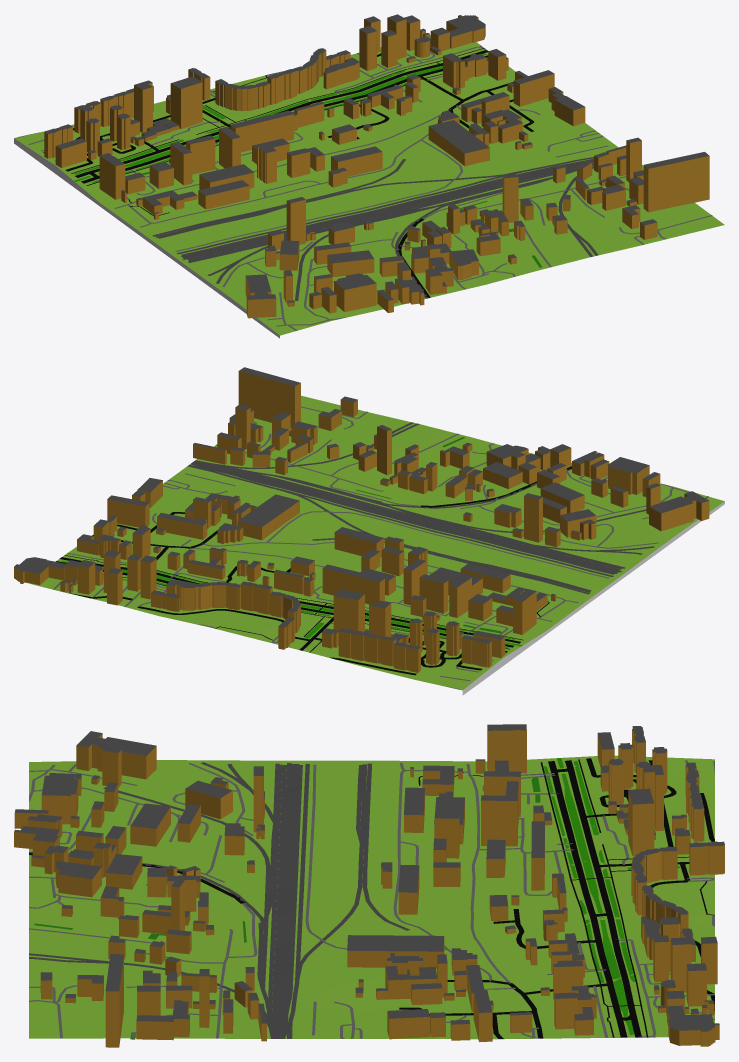
File: tile_00_03.glb
3 renders of one model, top to bottom at view 1: azimuth 30°, elevation 25°; view 2: azimuth 150°, elevation 25°; view 3: azimuth 270°, elevation 25°, orthographic. The views are drawn at different scales.
Parts seen in each view (by area): view 1: Ub_small.osm_buildings_00_03, Terrain_00_03, Ub_small.osm_railways_00_03, Ub_small.osm_roads_service_00_03, Ub_small.osm_vegetation_00_03, Ub_small.osm_roads_trunk_00_03, Ub_small.osm_roads_residential_00_03, Ub_small.osm_paths_footway_00_03; view 2: Ub_small.osm_buildings_00_03, Terrain_00_03, Ub_small.osm_railways_00_03, Ub_small.osm_roads_service_00_03, Ub_small.osm_roads_residential_00_03, Ub_small.osm_vegetation_00_03, Ub_small.osm_roads_trunk_00_03; view 3: Terrain_00_03, Ub_small.osm_buildings_00_03, Ub_small.osm_railways_00_03, Ub_small.osm_roads_service_00_03, Ub_small.osm_roads_trunk_00_03, Ub_small.osm_vegetation_00_03, Ub_small.osm_roads_residential_00_03, Ub_small.osm_paths_footway_00_03.
Boxes of the visible parts, box(x1,y1,x2,y2) form: Ub_small.osm_buildings_00_03: box(44, 14, 709, 318); Terrain_00_03: box(14, 36, 724, 338); Ub_small.osm_railways_00_03: box(152, 157, 598, 300); Ub_small.osm_roads_service_00_03: box(17, 35, 712, 330); Ub_small.osm_vegetation_00_03: box(74, 53, 486, 183); Ub_small.osm_roads_trunk_00_03: box(75, 50, 488, 183); Ub_small.osm_roads_residential_00_03: box(43, 53, 534, 171); Ub_small.osm_paths_footway_00_03: box(71, 48, 484, 216); Ub_small.osm_buildings_00_03: box(14, 367, 709, 672); Terrain_00_03: box(26, 395, 724, 695); Ub_small.osm_railways_00_03: box(187, 422, 654, 594); Ub_small.osm_roads_service_00_03: box(53, 406, 708, 689); Ub_small.osm_roads_residential_00_03: box(68, 512, 507, 675); Ub_small.osm_vegetation_00_03: box(62, 560, 522, 648); Ub_small.osm_roads_trunk_00_03: box(56, 557, 520, 647); Terrain_00_03: box(29, 755, 714, 1039); Ub_small.osm_buildings_00_03: box(14, 724, 724, 1047); Ub_small.osm_railways_00_03: box(29, 762, 409, 1038); Ub_small.osm_roads_service_00_03: box(29, 760, 714, 1038); Ub_small.osm_roads_trunk_00_03: box(548, 760, 641, 1037); Ub_small.osm_vegetation_00_03: box(543, 758, 679, 1034); Ub_small.osm_roads_residential_00_03: box(399, 758, 714, 1038); Ub_small.osm_paths_footway_00_03: box(418, 759, 714, 1037).
Size of the model in its own units: 943 by 95.51 by 964.
